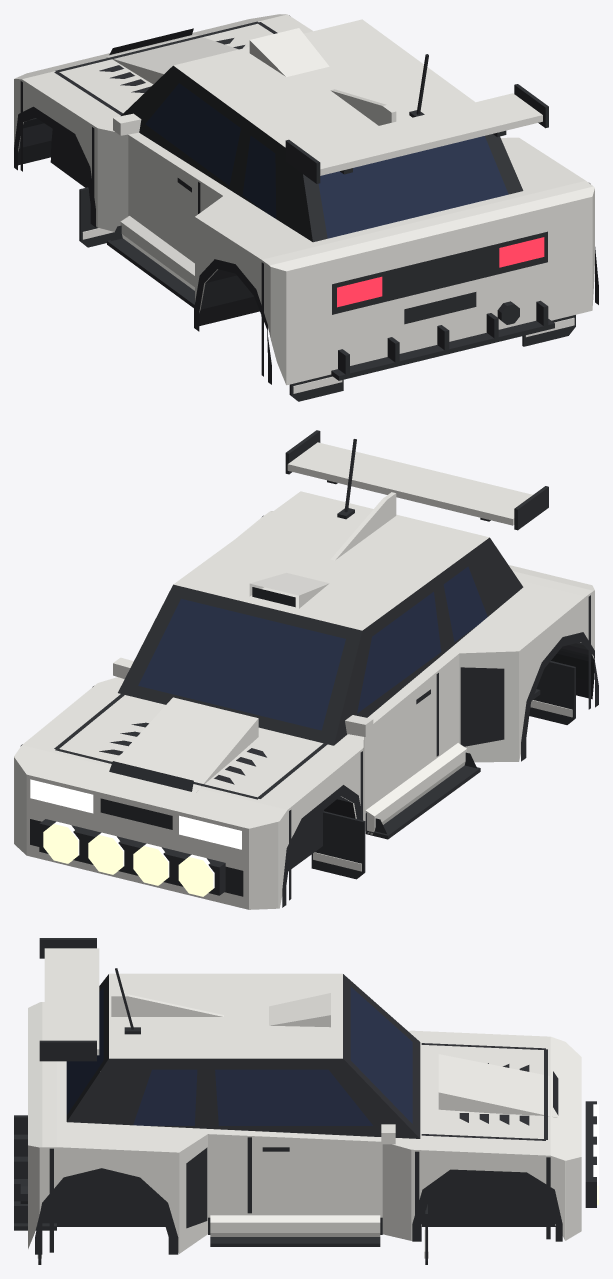
The model's file is Kumo.glb.
3 renders of one model, top to bottom at view 1: azimuth 30°, elevation 25°; view 2: azimuth 150°, elevation 25°; view 3: azimuth 270°, elevation 25°, orthographic. The views are drawn at different scales.
Parts seen in each view (by area): view 1: BumperRear, Roof, RearWindow, Door_FL, Cowl, Pillars, Opt_Wing_Rally_WingBlade, Hood, TailGarnish, Window_FL, Opt_Diffuser_Race_AccDiffuserRace, Underbody (+22 smaller); view 2: Roof, BumperFront, Windshield, Pillars, Hood, Opt_Wing_Rally_WingBlade, Fender_RL, Opt_Hood_Scoop_HoodScoop, Cowl, Door_FL, Window_FL, Opt_Bumper_Lamps_RallyLamp (+24 smaller); view 3: Roof, Pillars, Door_FR, WheelWell, Hood, Fender_RR, Window_FR, Cowl, BumperFront, Opt_Hood_Scoop_HoodScoop, Opt_Wing_Rally_WingBlade, Windshield (+17 smaller).
Boxes of the visible parts, x1,y1,x2,y2 form: BumperRear: (265,183,594,385); Roof: (173,19,474,147); RearWindow: (318,136,508,238); Door_FL: (93,125,201,263); Cowl: (93,120,585,259); Pillars: (121,65,523,242); Opt_Wing_Rally_WingBlade: (298,93,542,175); Hood: (22,14,312,125); TailGarnish: (332,231,547,314); Window_FL: (145,83,240,185); Opt_Diffuser_Race_AccDiffuserRace: (331,300,554,380); Underbody: (18,118,259,325); Roof: (173,491,489,630); BumperFront: (14,745,287,909); Windshield: (138,598,345,730); Pillars: (118,537,523,745); Hood: (22,686,358,809); Opt_Wing_Rally_WingBlade: (287,442,532,525); Fender_RL: (437,594,589,762); Opt_Hood_Scoop_HoodScoop: (106,697,258,792); Cowl: (94,517,585,751); Door_FL: (359,671,437,830); Window_FL: (357,592,441,713); Opt_Bumper_Lamps_RallyLamp: (43,821,214,896); Roof: (109,973,342,1058); Pillars: (66,974,420,1138); Door_FR: (247,1136,419,1240); WheelWell: (42,1177,555,1226); Hood: (419,1031,550,1155); Fender_RR: (49,1134,247,1253); Window_FR: (215,1069,372,1125); Cowl: (56,1030,419,1152); BumperFront: (550,1037,581,1240); Opt_Hood_Scoop_HoodScoop: (438,1054,557,1117); Opt_Wing_Rally_WingBlade: (44,948,99,1055); Windshield: (350,987,412,1123).
Bounding box in the file's own units: 7.26 × 5.82 × 12.25.
